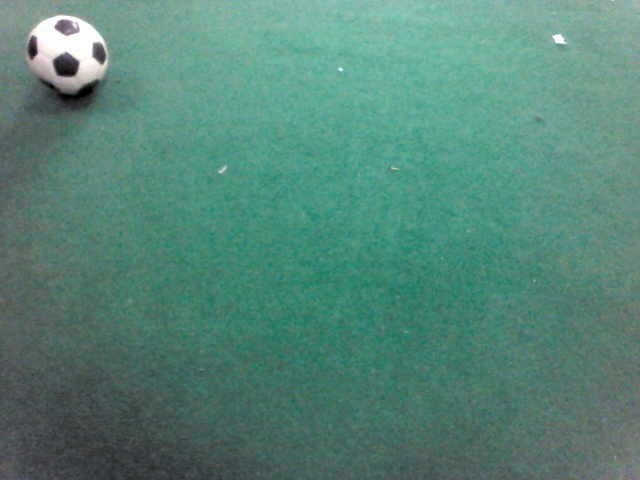ball: (24, 13, 111, 98)
